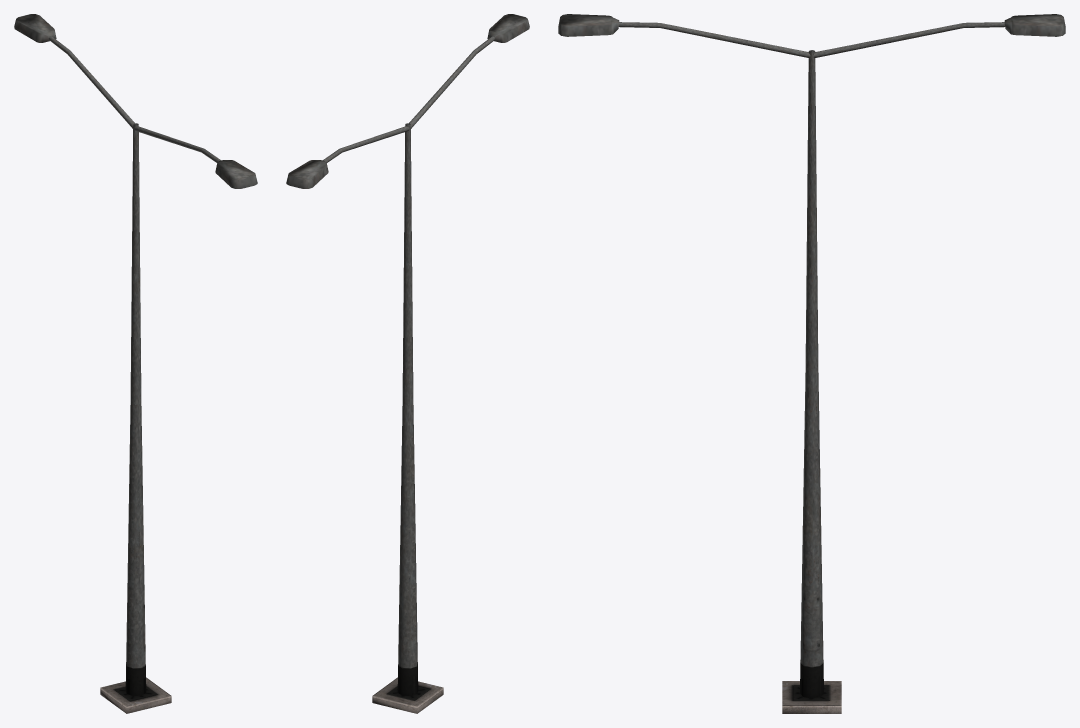
The model's file is laterne_01.fbx.
3 renders of one model, left to right at view 1: azimuth 30°, elevation 25°; view 2: azimuth 150°, elevation 25°; view 3: azimuth 270°, elevation 25°, orthographic. The views are drawn at different scales.
Visible parts, largest first — view 1: laterne_einfach, laterne_doppelt; view 2: laterne_einfach, laterne_doppelt; view 3: laterne_einfach, laterne_doppelt.
Part boxes in pixels (<box>): laterne_einfach: <box>100,123,257,713</box>; laterne_doppelt: <box>14,14,134,128</box>; laterne_einfach: <box>372,14,529,713</box>; laterne_doppelt: <box>286,126,409,188</box>; laterne_einfach: <box>558,14,841,713</box>; laterne_doppelt: <box>813,14,1065,58</box>.
Bounding box in the file's own units: 86 × 1103 × 744.
